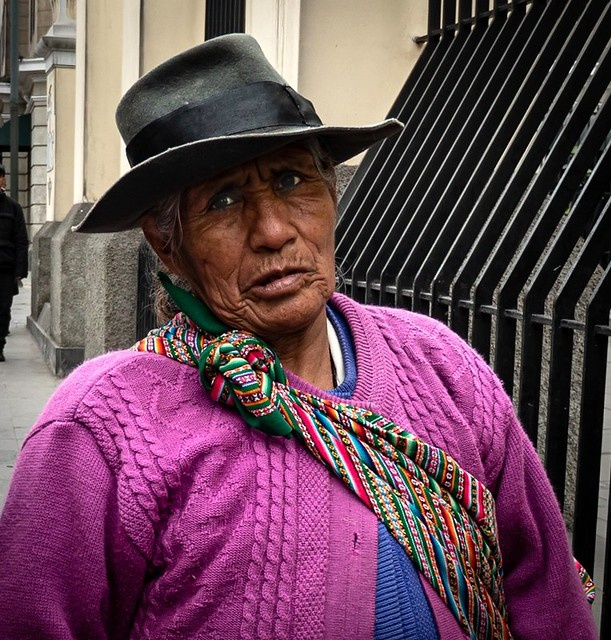without_mask: (113, 127, 370, 319)
